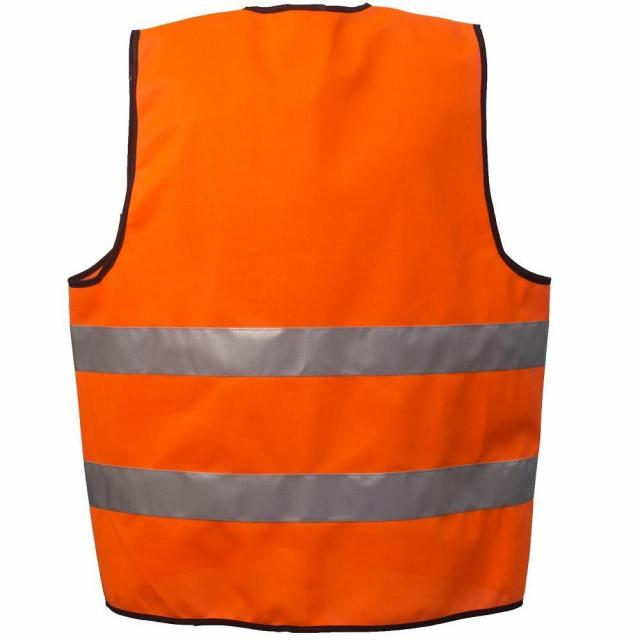vest: (68, 4, 550, 636)
